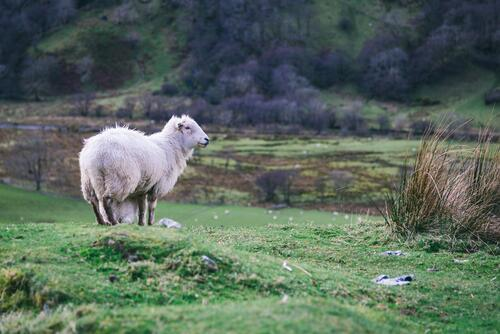sheep: (80, 114, 210, 225)
